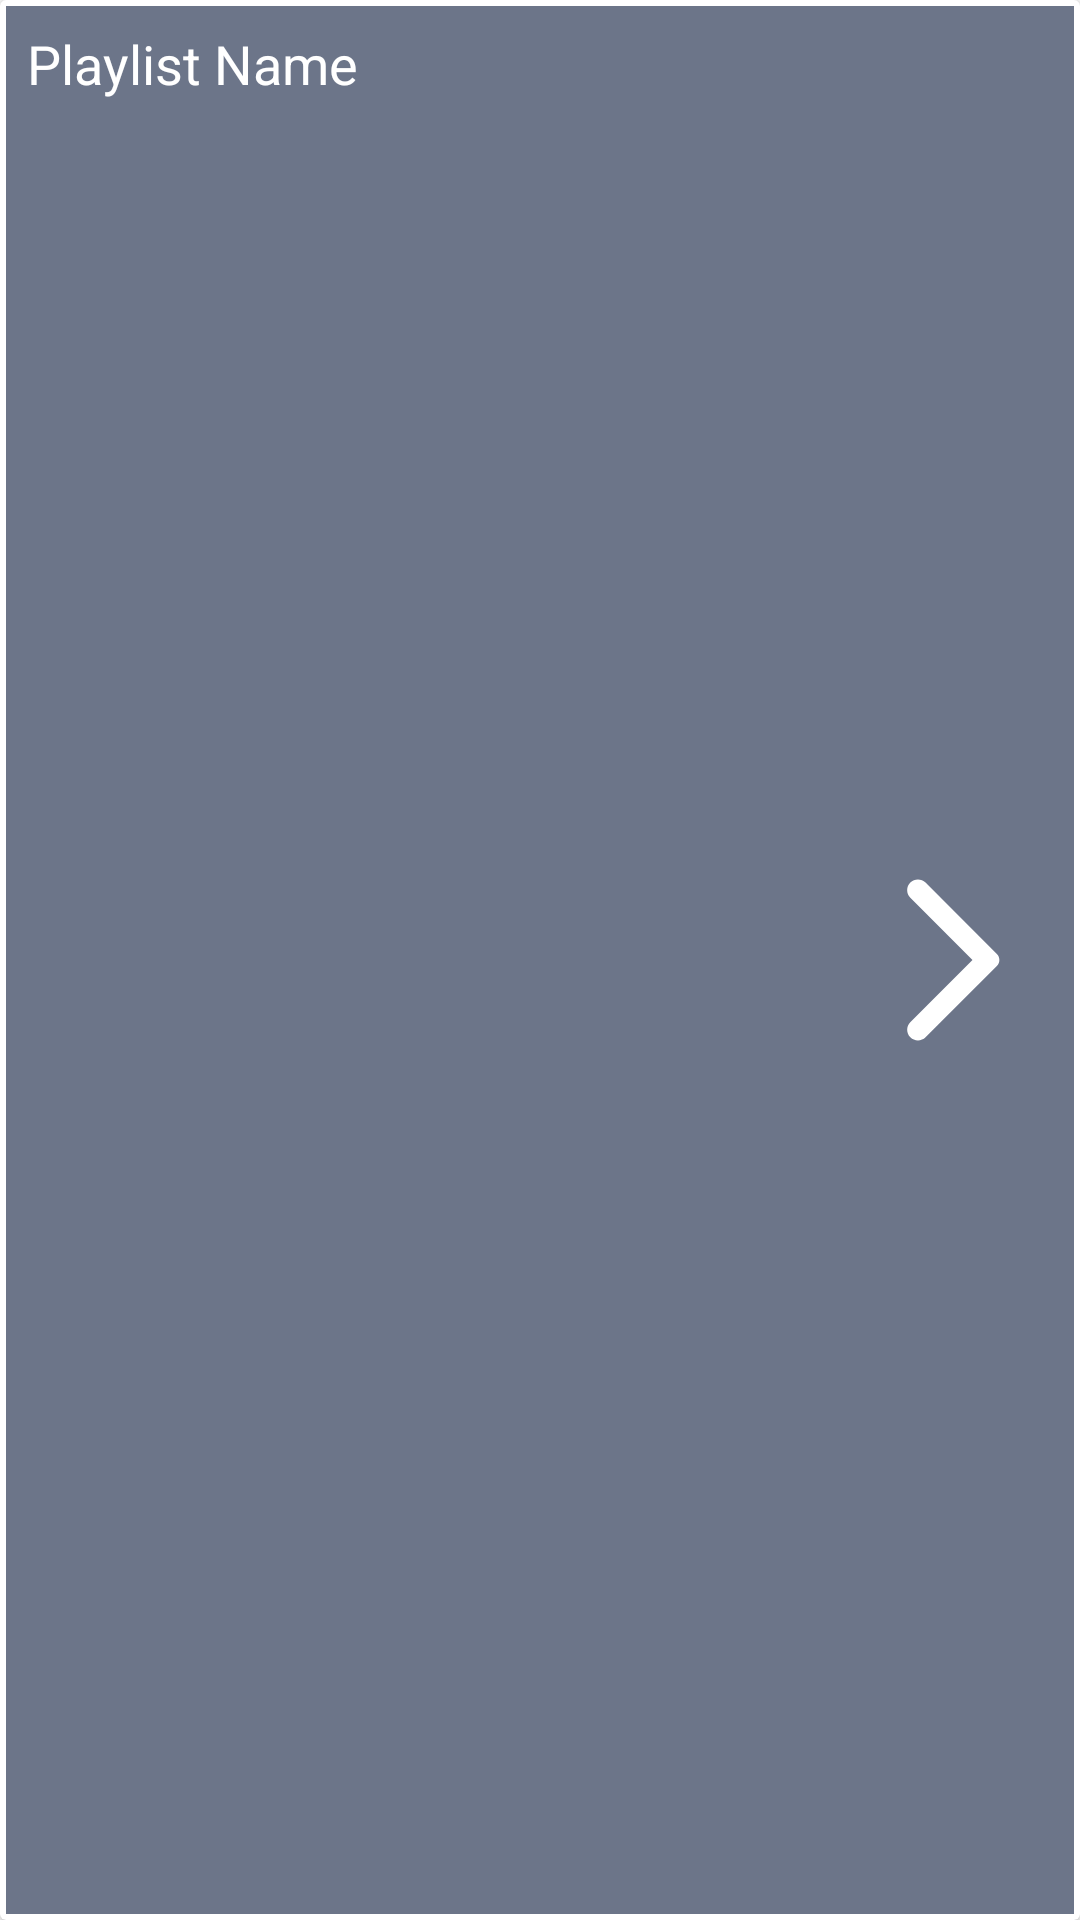

Where icons sit on this 1080w x 1920h app screen, as (x1, y1, x2, y2):
arrow forward: (907, 879, 1000, 1041)
